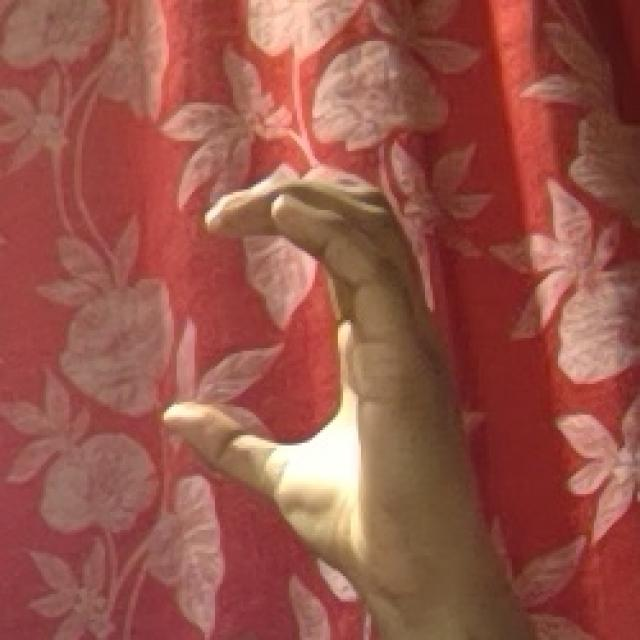Alphabet-C: (164, 166, 538, 640)
